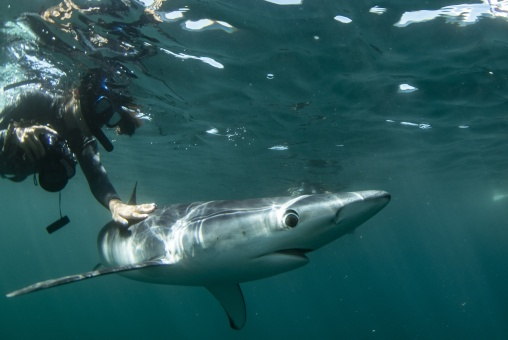Azul: (1, 167, 413, 333)
